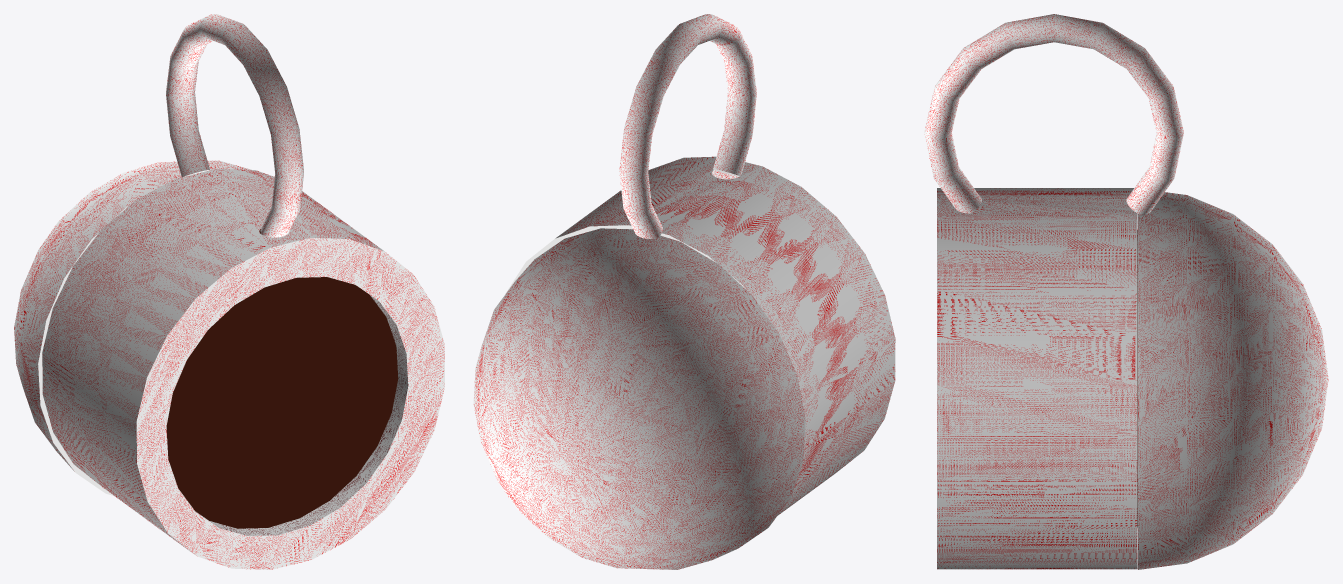
File: model_align.obj
3 renders of one model, left to right at view 1: azimuth 30°, elevation 25°; view 2: azimuth 150°, elevation 25°; view 3: azimuth 270°, elevation 25°, orthographic. The views are drawn at different scales.
Visible parts, largest first — view 1: mesh2_mesh2-geometry, mesh1_mesh1-geometry; view 2: mesh1_mesh1-geometry, mesh2_mesh2-geometry; view 3: mesh2_mesh2-geometry, mesh1_mesh1-geometry.
Part boxes in pixels (left/top/right/bottom): mesh2_mesh2-geometry: left=42, top=14, right=444, bottom=569; mesh1_mesh1-geometry: left=14, top=160, right=251, bottom=495; mesh1_mesh1-geometry: left=473, top=228, right=805, bottom=569; mesh2_mesh2-geometry: left=505, top=14, right=895, bottom=515; mesh2_mesh2-geometry: left=924, top=14, right=1183, bottom=569; mesh1_mesh1-geometry: left=1138, top=192, right=1328, bottom=569.
Bounding box in the file's own units: 0.0922 × 0.1424 × 0.0971.
